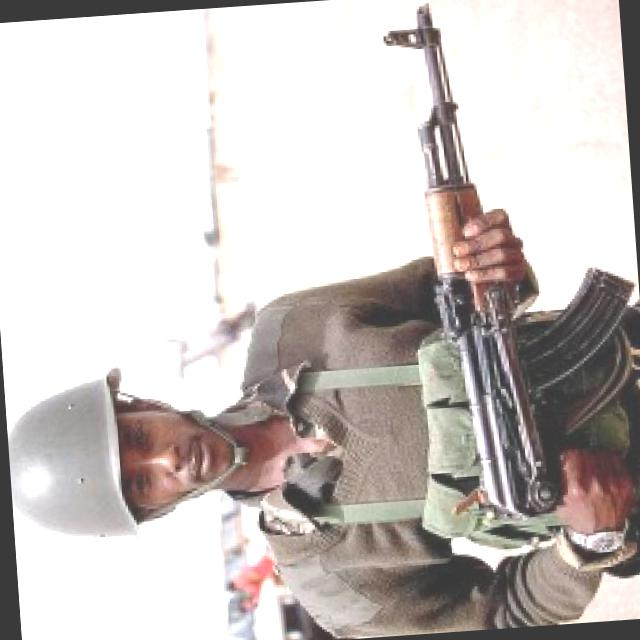long weapon: (362, 0, 608, 536)
